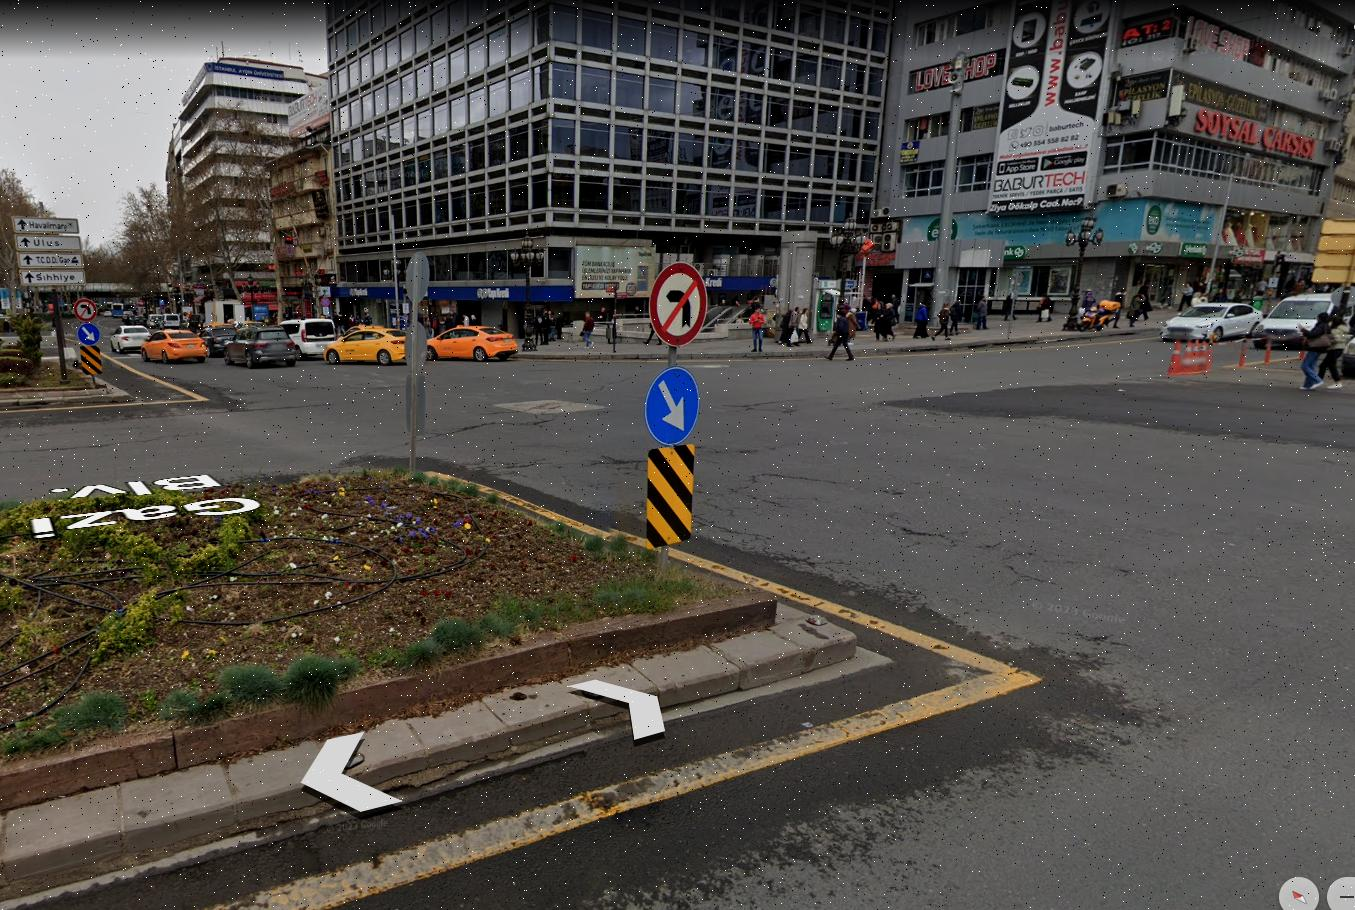leftturnsareforbidden: (652, 268, 700, 339)
